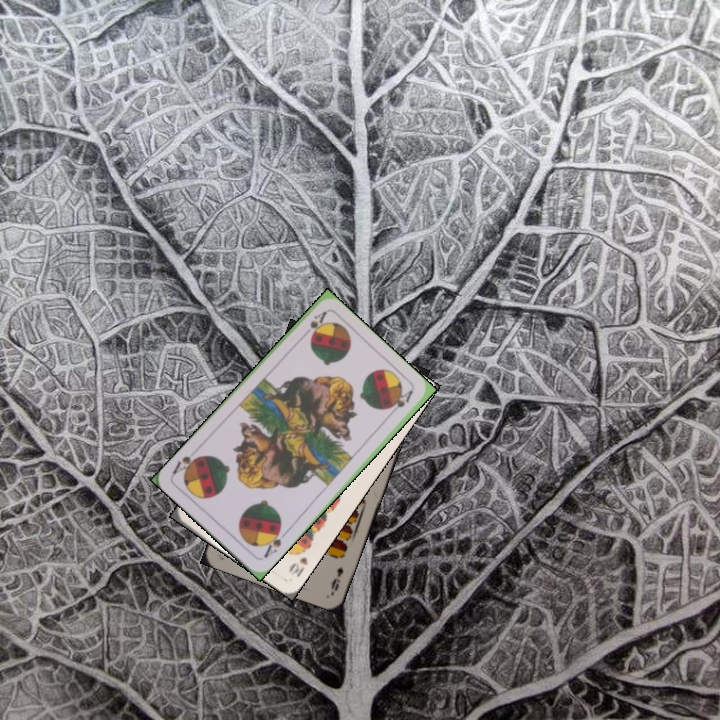E9: (327, 563, 346, 595)
S10: (285, 544, 312, 580)
SA: (297, 307, 329, 341), (260, 524, 289, 560)
